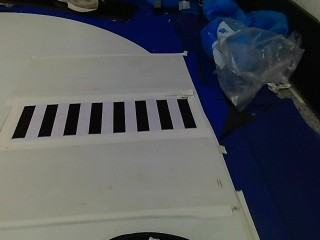crosswalk: (7, 92, 195, 142)
